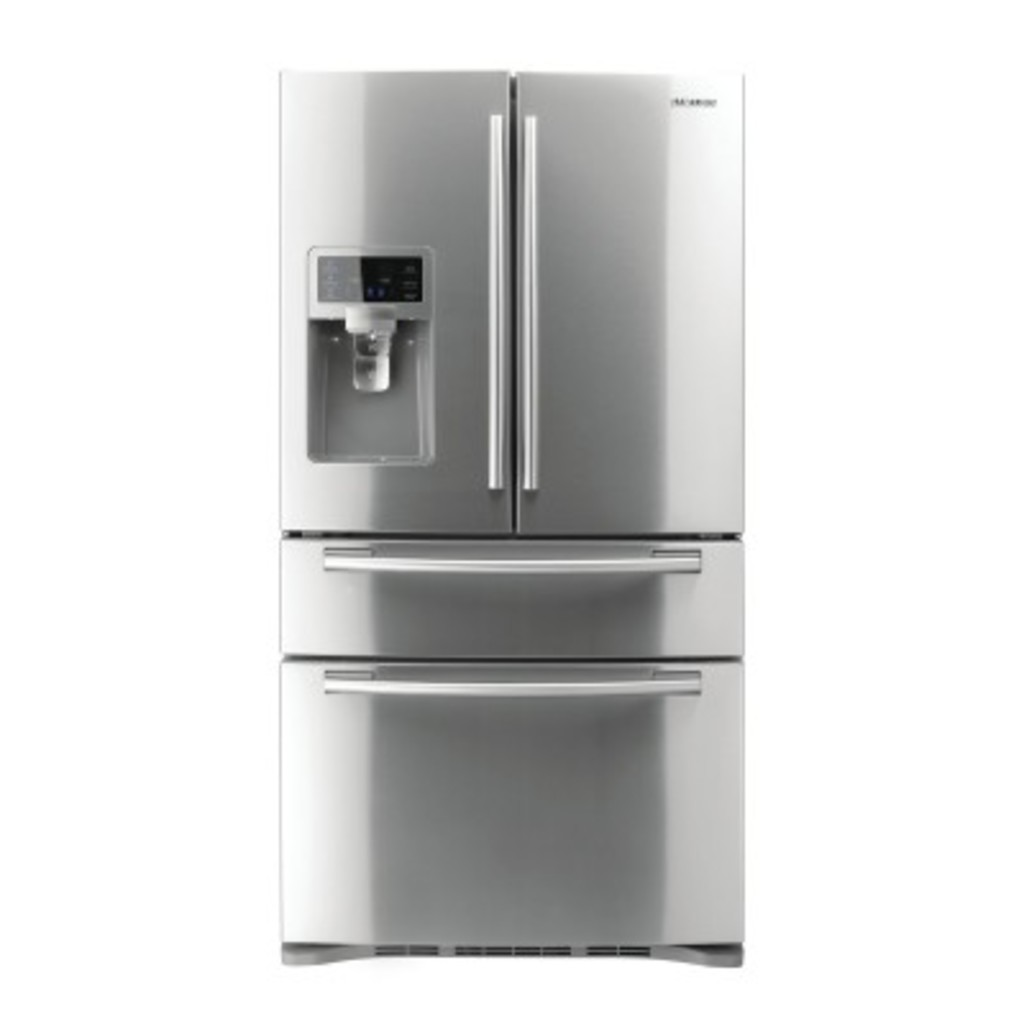handle: (329, 539, 700, 589), (319, 668, 703, 704), (515, 108, 546, 506), (483, 111, 511, 499)
refrigerator door: (283, 661, 743, 943), (274, 74, 513, 529), (518, 81, 742, 532), (280, 539, 742, 664)
